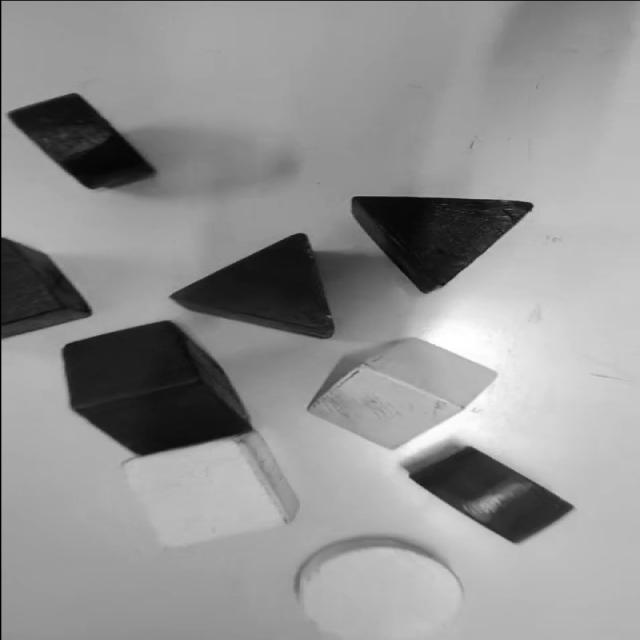bcircle: (6, 92, 156, 189)
bcube: (2, 237, 92, 337)
btriangle: (351, 197, 531, 293)
rcircle: (410, 446, 571, 545)
rcube: (65, 323, 252, 454)
rtriangle: (173, 235, 337, 338)
ycircle: (297, 539, 460, 639)
ycube: (124, 434, 294, 548)
ytriangle: (309, 337, 495, 448)
